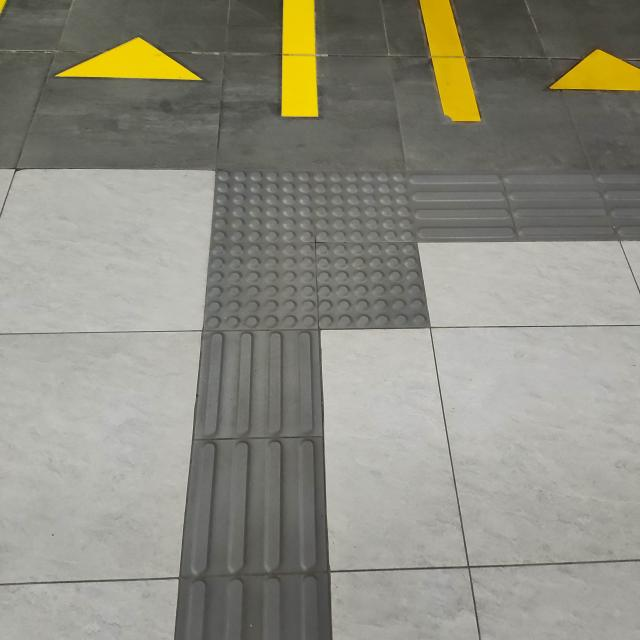kanan: (156, 133, 640, 340)
